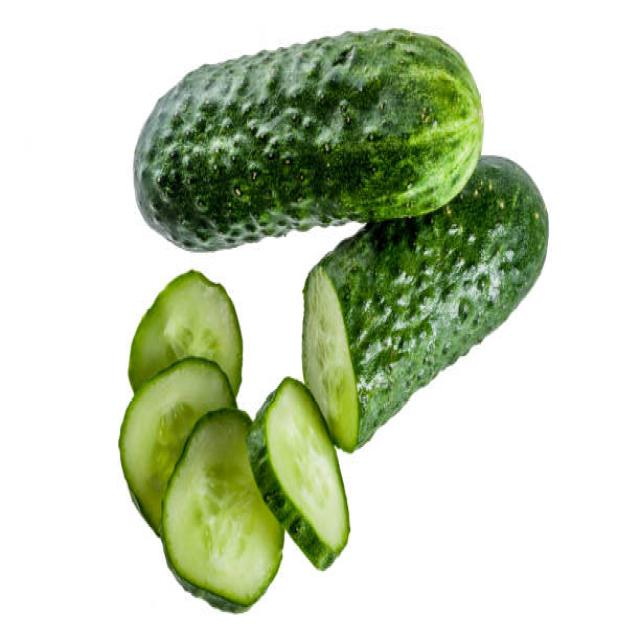cucumber: (131, 29, 483, 252), (300, 154, 549, 452)
